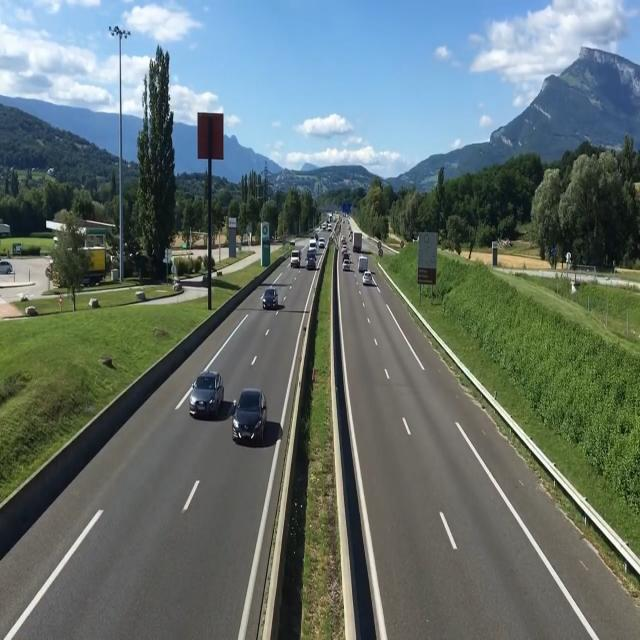car: (186, 366, 227, 425), (235, 384, 269, 447), (258, 282, 284, 310), (289, 246, 301, 272), (363, 270, 374, 286), (342, 257, 351, 274)
